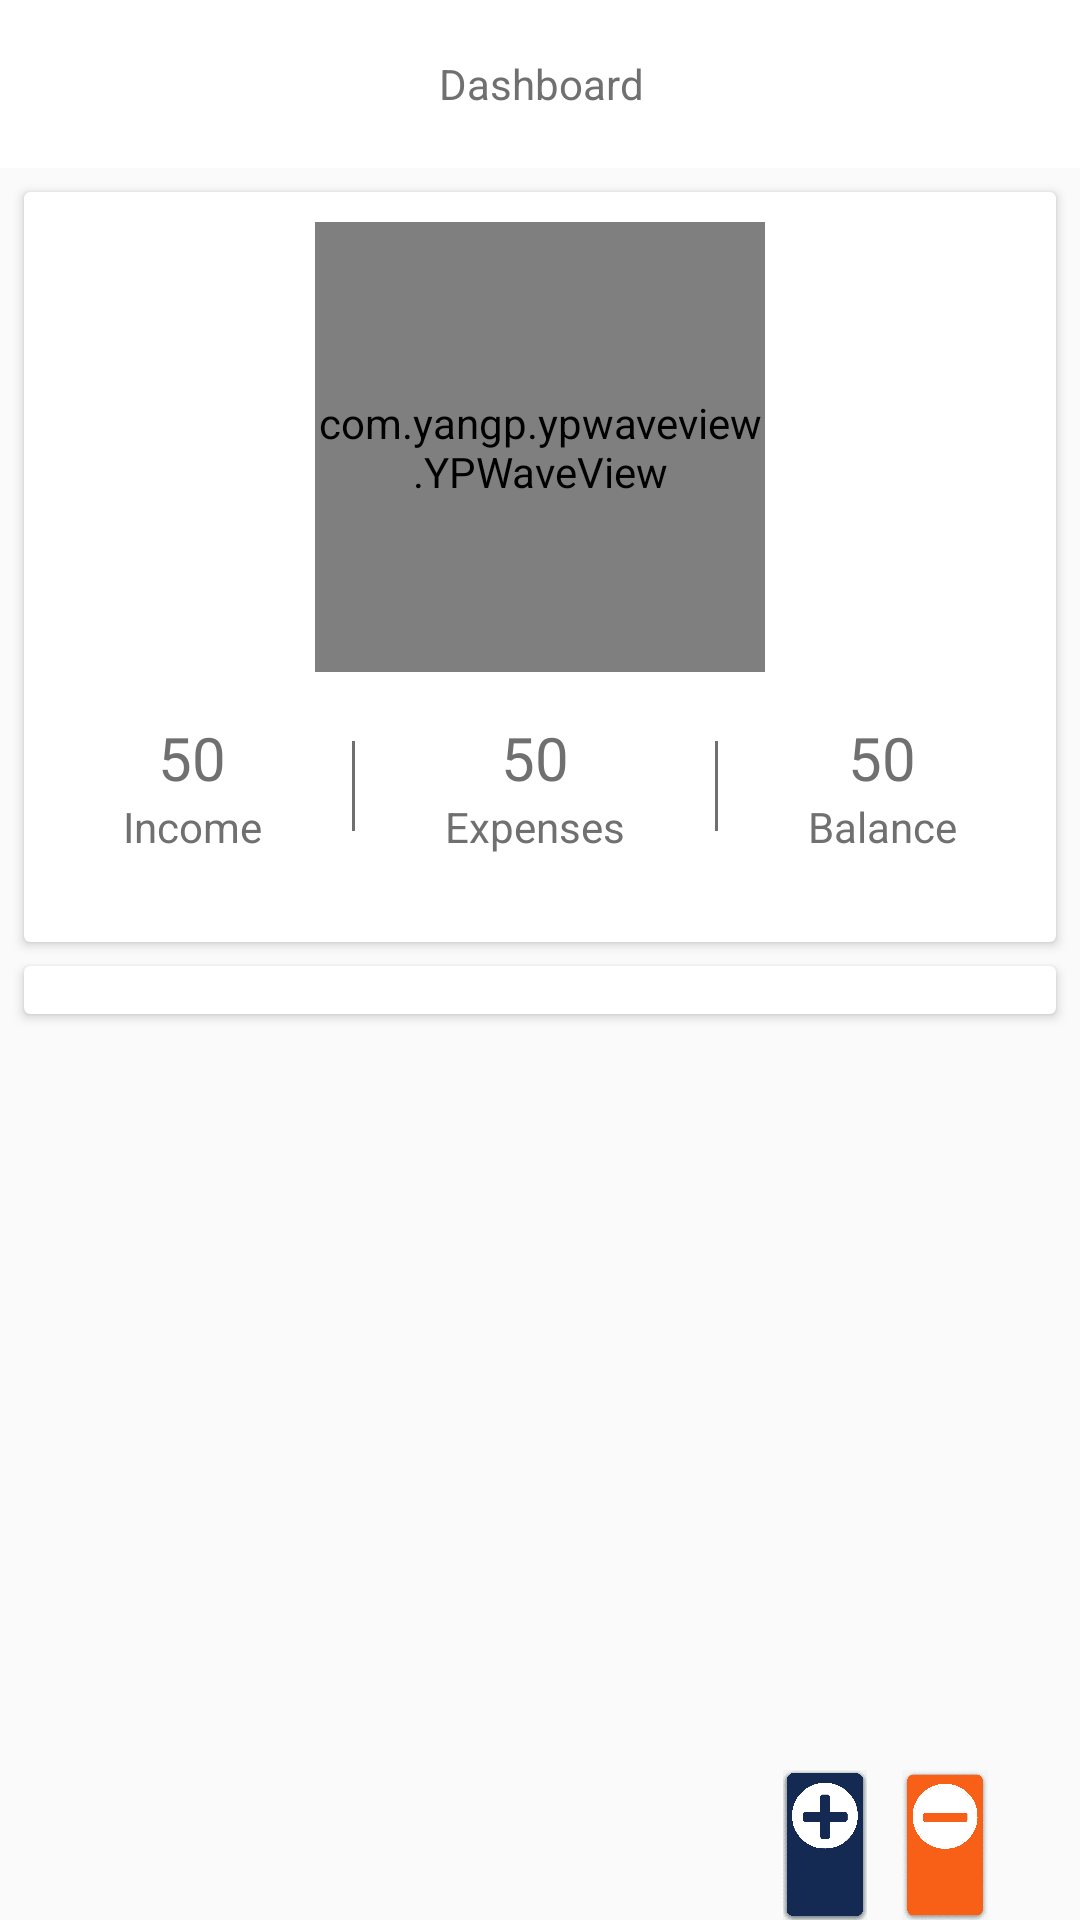

Screen size 1080×1920. Icon name, then its box in pixels as {"left": x1, "top": y1, "right": x2, "bottom": y2}:
add: {"left": 783, "top": 1771, "right": 867, "bottom": 1920}
substract: {"left": 905, "top": 1774, "right": 985, "bottom": 1920}
